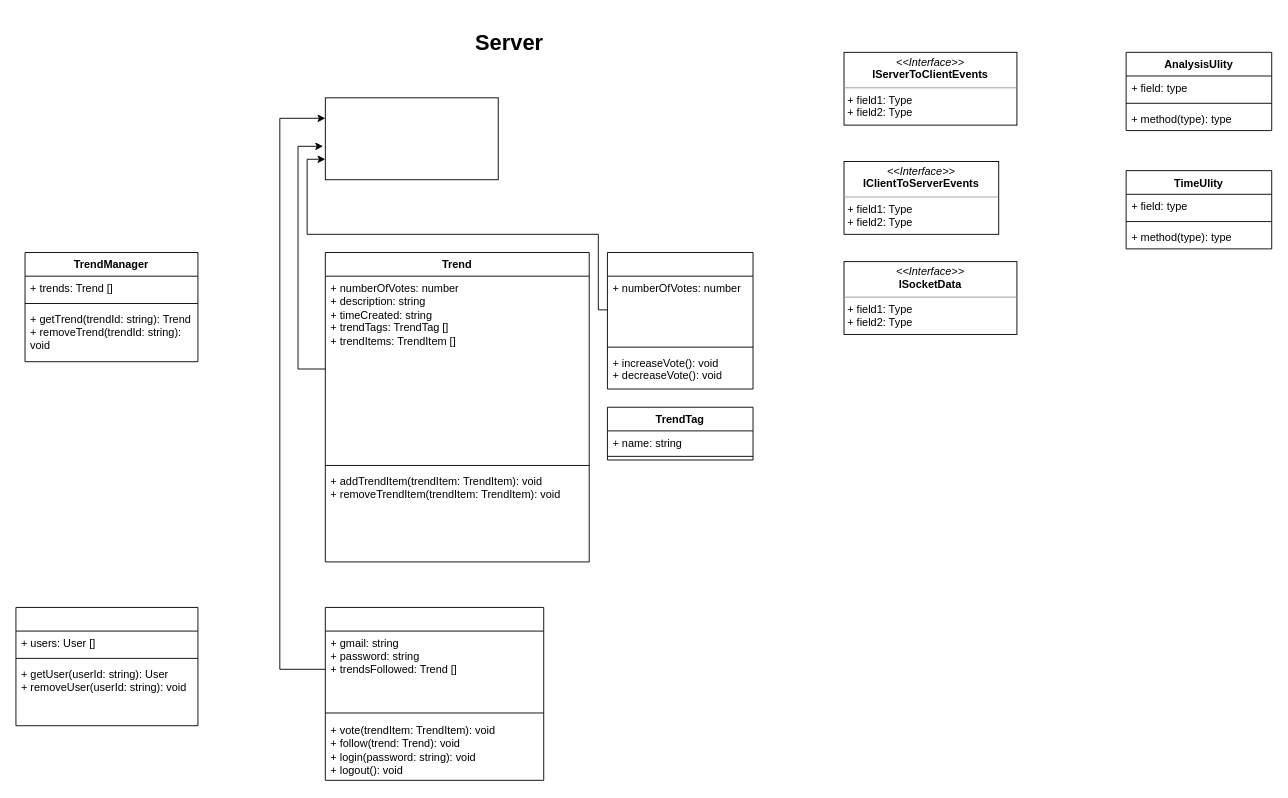
Some shapes in this 1288 by 798 pixel diagram are drawn without their labels. The box of each missing label's shape, as (x1, y1, x2, y2) in pixels:
<<Abstract>> AObject + id: string + name: string: (324, 97, 498, 180)
TrendItem: (607, 252, 753, 389)
User: (324, 607, 544, 780)
UserManager: (15, 607, 198, 726)
